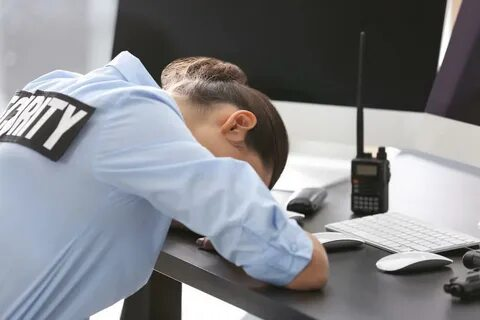sleep: (1, 55, 330, 320)
